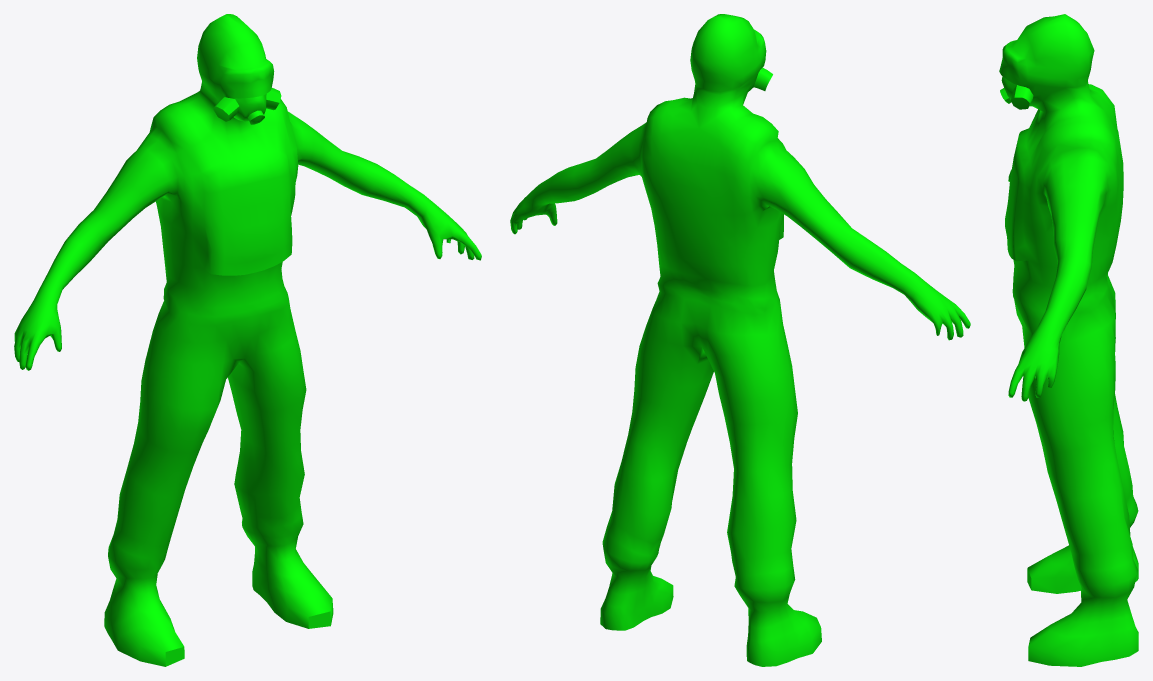
Rendered from CharacterFinished02.fbx.
3 renders of one model, left to right at view 1: azimuth 30°, elevation 25°; view 2: azimuth 150°, elevation 25°; view 3: azimuth 270°, elevation 25°, orthographic. The views are drawn at different scales.
Parts seen in each view (by area): view 1: polySurface1; view 2: polySurface1; view 3: polySurface1.
Boxes of the visible parts, x1,y1,x2,y2 form: polySurface1: (14,14,481,666); polySurface1: (510,14,970,666); polySurface1: (999,14,1138,666).
Bounding box in the file's own units: 141 × 184 × 38.4.
